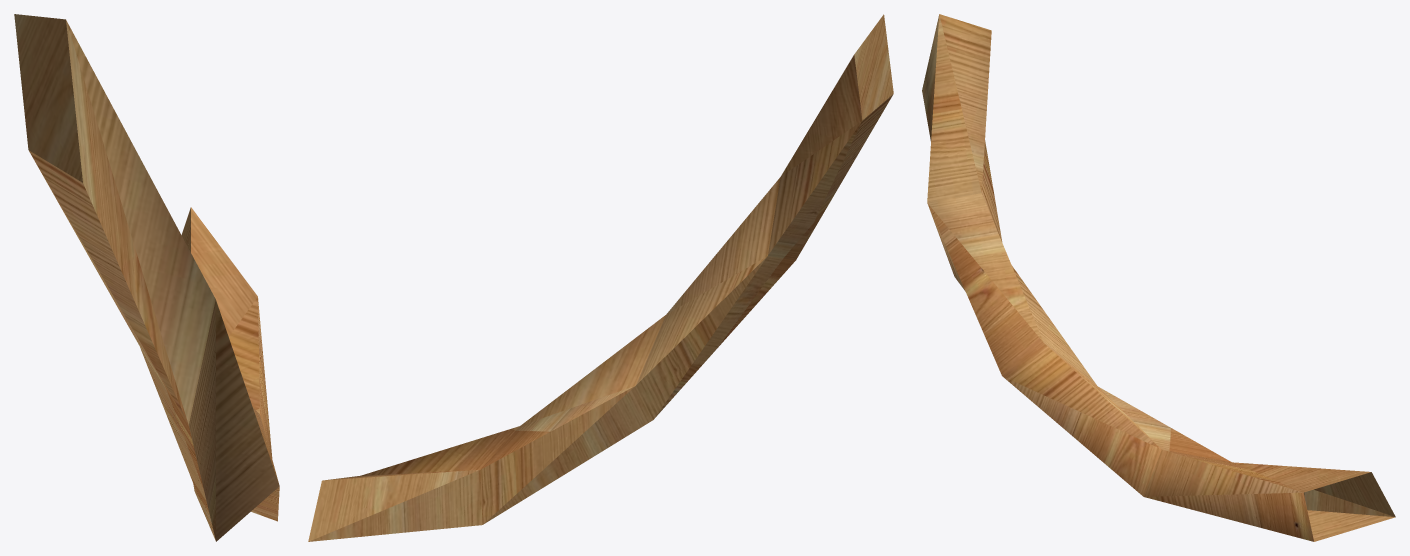
Rendered from original-202.obj.
3 views of the same model, side by side, from view 1: azimuth 30°, elevation 25°; view 2: azimuth 150°, elevation 25°; view 3: azimuth 270°, elevation 25° (orthographic). The views are drawn at different scales.
Parts seen in each view (by area): view 1: mesh98/mesh98-geometry#mesh98-geometry; view 2: mesh98/mesh98-geometry#mesh98-geometry; view 3: mesh98/mesh98-geometry#mesh98-geometry.
Part boxes in pixels (x1,y1,x2,y2): mesh98/mesh98-geometry#mesh98-geometry: [14, 14, 279, 541]; mesh98/mesh98-geometry#mesh98-geometry: [308, 14, 893, 541]; mesh98/mesh98-geometry#mesh98-geometry: [922, 14, 1395, 541].
Size of the model in its own units: 0.00461 by 0.00624 by 0.00677.
